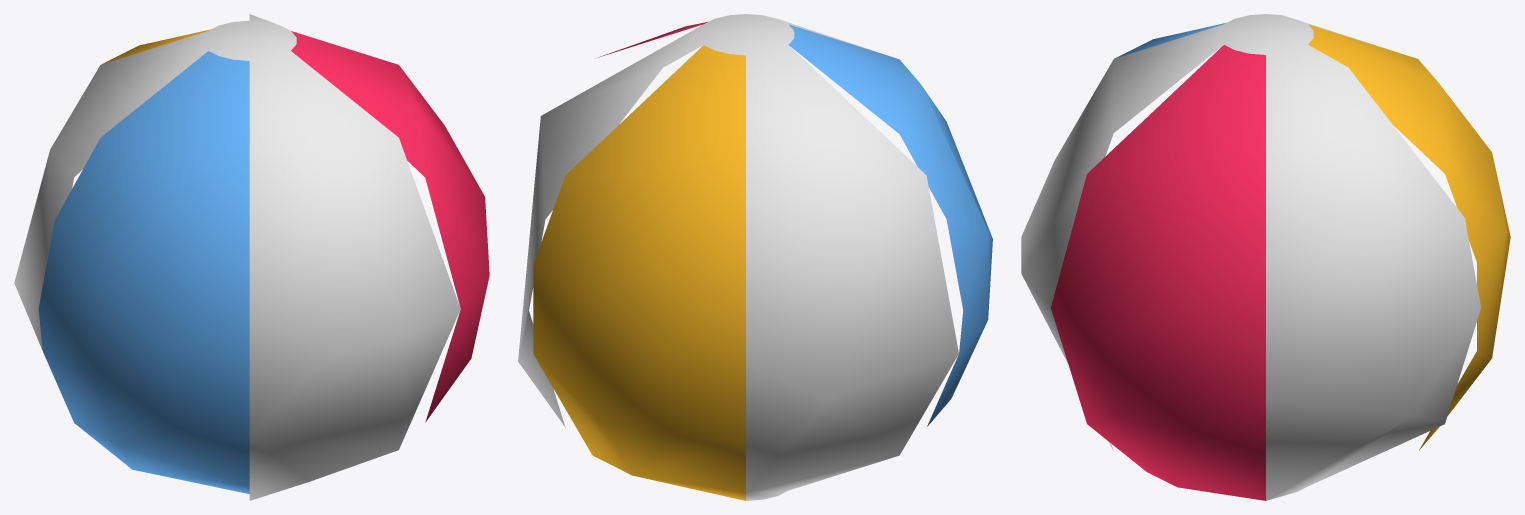
File: ball.glb
3 views of the same model, side by side, from view 1: azimuth 30°, elevation 25°; view 2: azimuth 150°, elevation 25°; view 3: azimuth 270°, elevation 25° (orthographic). The views are drawn at different scales.
Visible parts, largest first — view 1: ball; view 2: ball; view 3: ball.
Boxes of the visible parts, x1=… form: ball: x1=14, y1=14, x2=489, y2=500; ball: x1=518, y1=14, x2=992, y2=500; ball: x1=1021, y1=14, x2=1510, y2=500.
Bounding box in the file's own units: 2 × 2 × 1.97.
